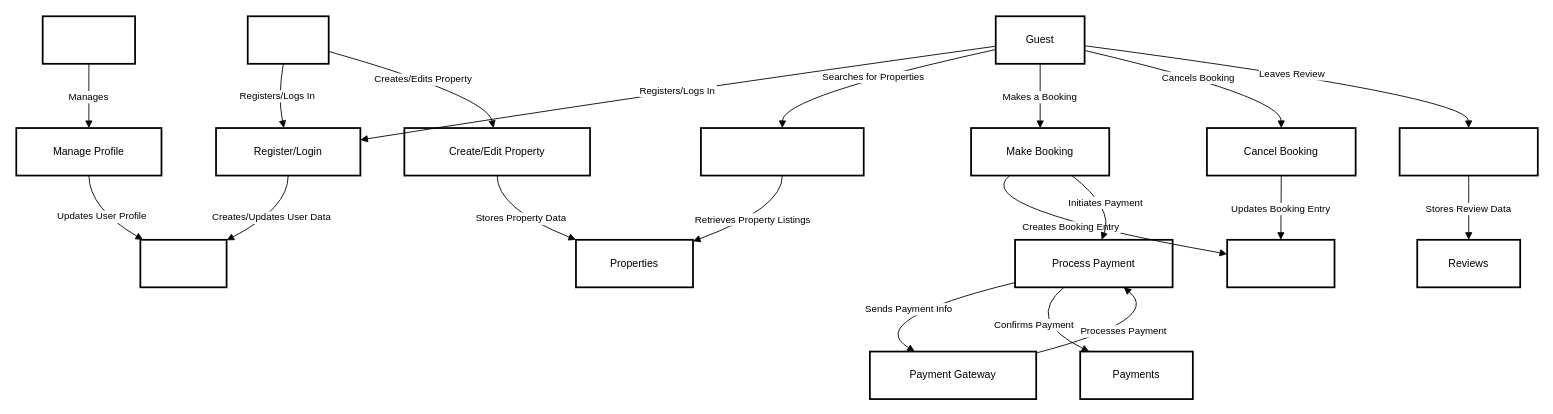
This 1553x414 diagram has some shape labels left out. Here are the shapes that lost their labels. From the top down, the centre of each, then its label:
the point at 88,39: Admin
the point at 287,39: Host
the point at 782,151: Search Properties
the point at 1468,151: Leave Review
the point at 183,263: Users
the point at 1280,263: Bookings
